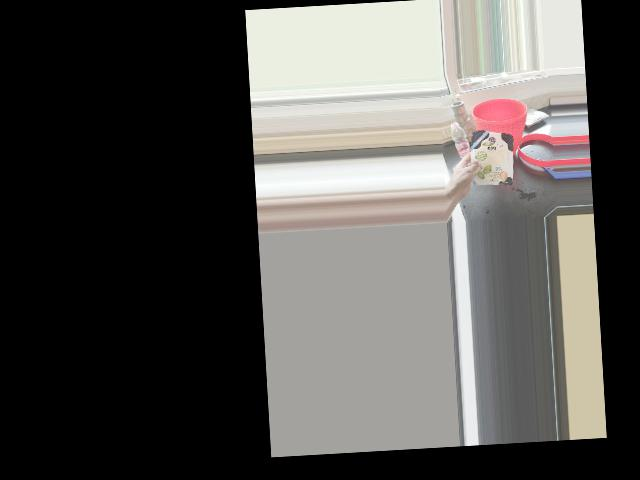cheese: (458, 128, 515, 183)
